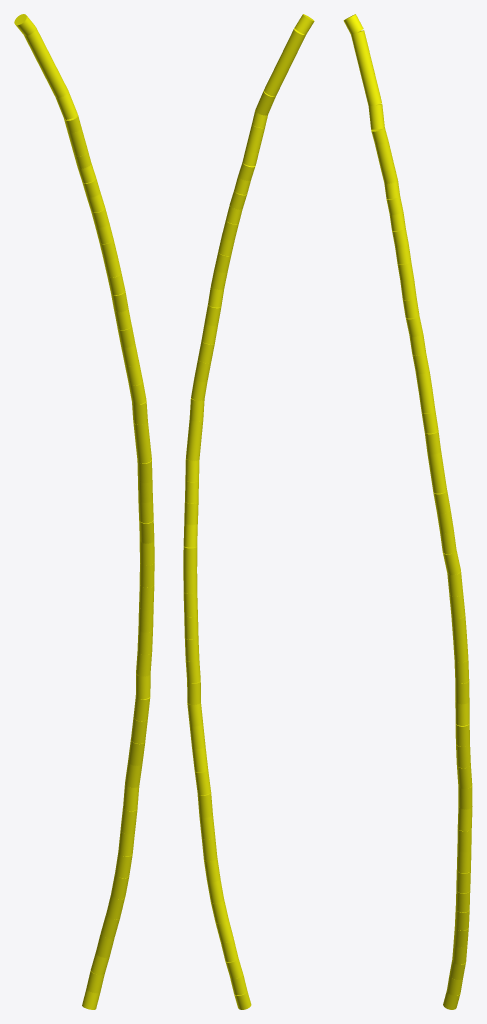
The picture shows the model from 3 angles, left to right: view 1: azimuth 30°, elevation 25°; view 2: azimuth 210°, elevation 25°; view 3: azimuth 330°, elevation 25°; orthographic projection. The views are drawn at different scales.
Visible parts, largest first — view 1: Cylinder(Clone) (×17); view 2: Cylinder(Clone) (×14); view 3: Cylinder(Clone) (×12).
Boxes of the visible parts, x1,y1,x2,y2 form: Cylinder(Clone) (×17): (24,27,154,856); Cylinder(Clone) (×14): (183,28,305,839); Cylinder(Clone) (×12): (351,30,472,852).
Size of the model in its own units: 0.1039 by 0.7709 by 0.057.
